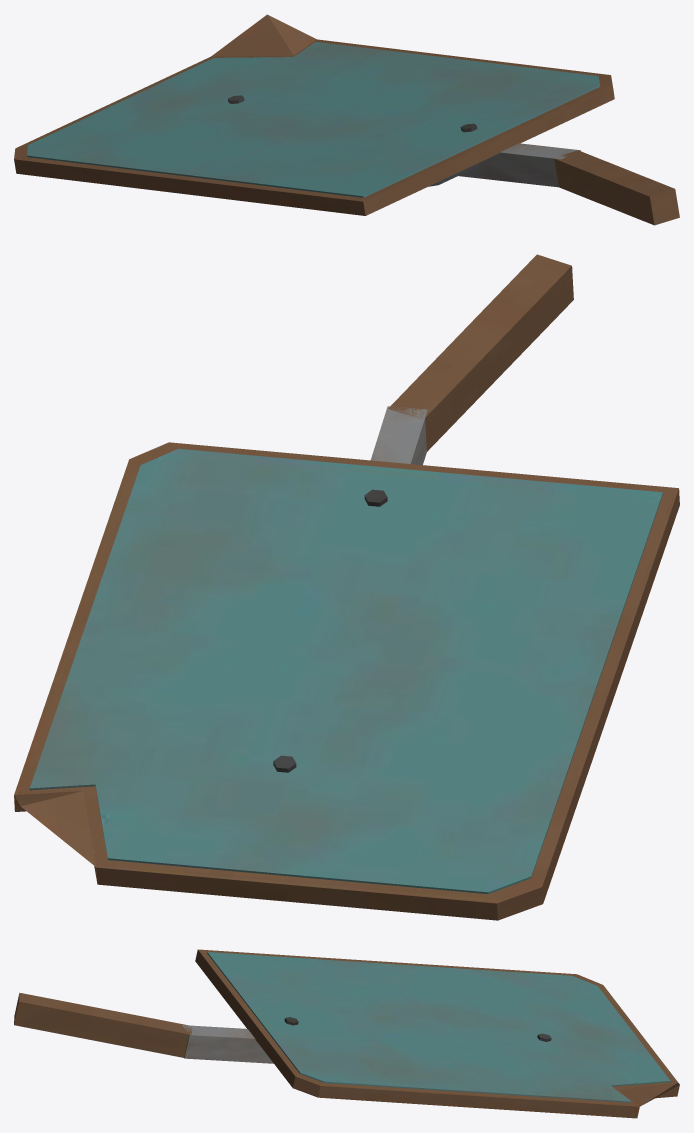
Rendered from BR14_fallen_signboard_v2.glb.
3 views of the same model, one above another, from view 1: azimuth 30°, elevation 25°; view 2: azimuth 150°, elevation 25°; view 3: azimuth 270°, elevation 25° (orthographic). The views are drawn at different scales.
Parts seen in each view (by area): view 1: Square post; view 2: Square post; view 3: Square post.
Boxes of the visible parts, left/top/right/bottom form: Square post: left=14, top=14, right=679, bottom=225; Square post: left=14, top=254, right=679, bottom=920; Square post: left=14, top=949, right=679, bottom=1118.
Size of the model in its own units: 1.31 by 0.4264 by 2.
4 materials, 4 textured.
